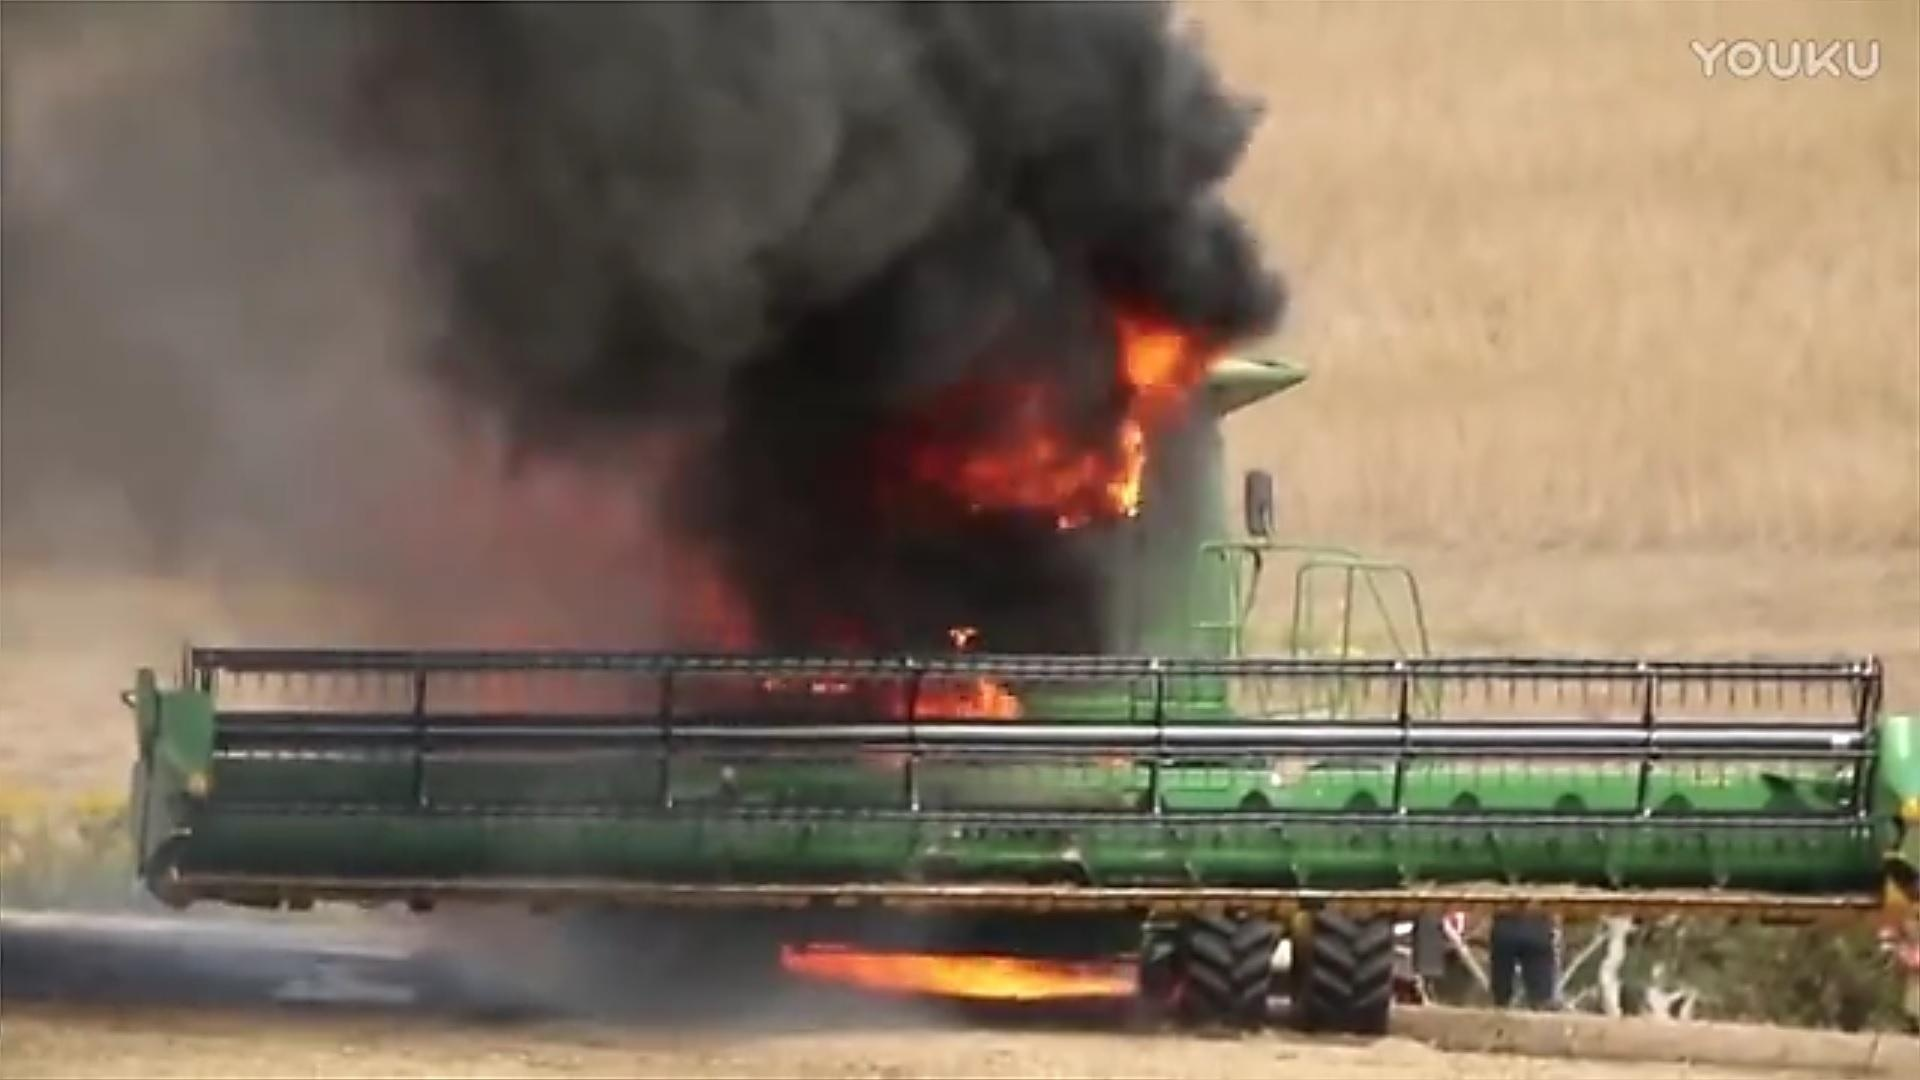fire: (942, 320, 1204, 522), (913, 674, 1018, 723)
